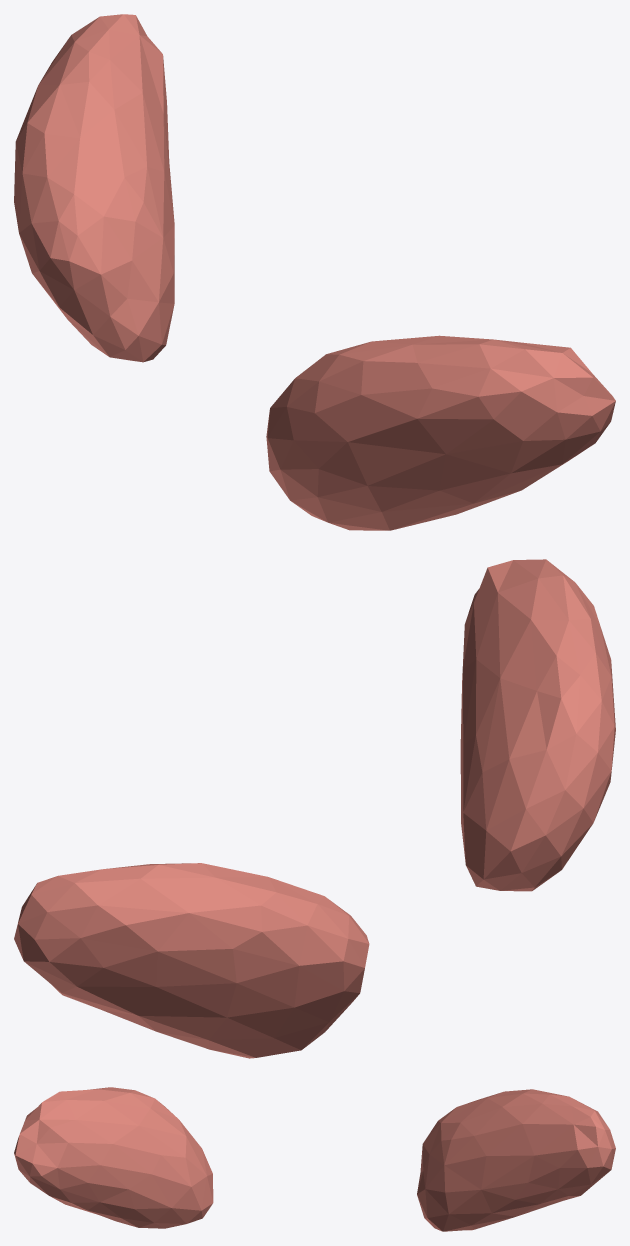
3 views of the same model, one above another, from view 1: azimuth 30°, elevation 25°; view 2: azimuth 150°, elevation 25°; view 3: azimuth 270°, elevation 25° (orthographic). The views are drawn at different scales.
Parts seen in each view (by area): view 1: 263.obj; view 2: 263.obj; view 3: 263.obj.
Part boxes in pixels (box(x1,y1,x2,y2)): 263.obj: box(14, 14, 615, 530); 263.obj: box(14, 559, 615, 1058); 263.obj: box(14, 1087, 615, 1231).
Size of the model in its own units: 424 by 415 by 1550.
